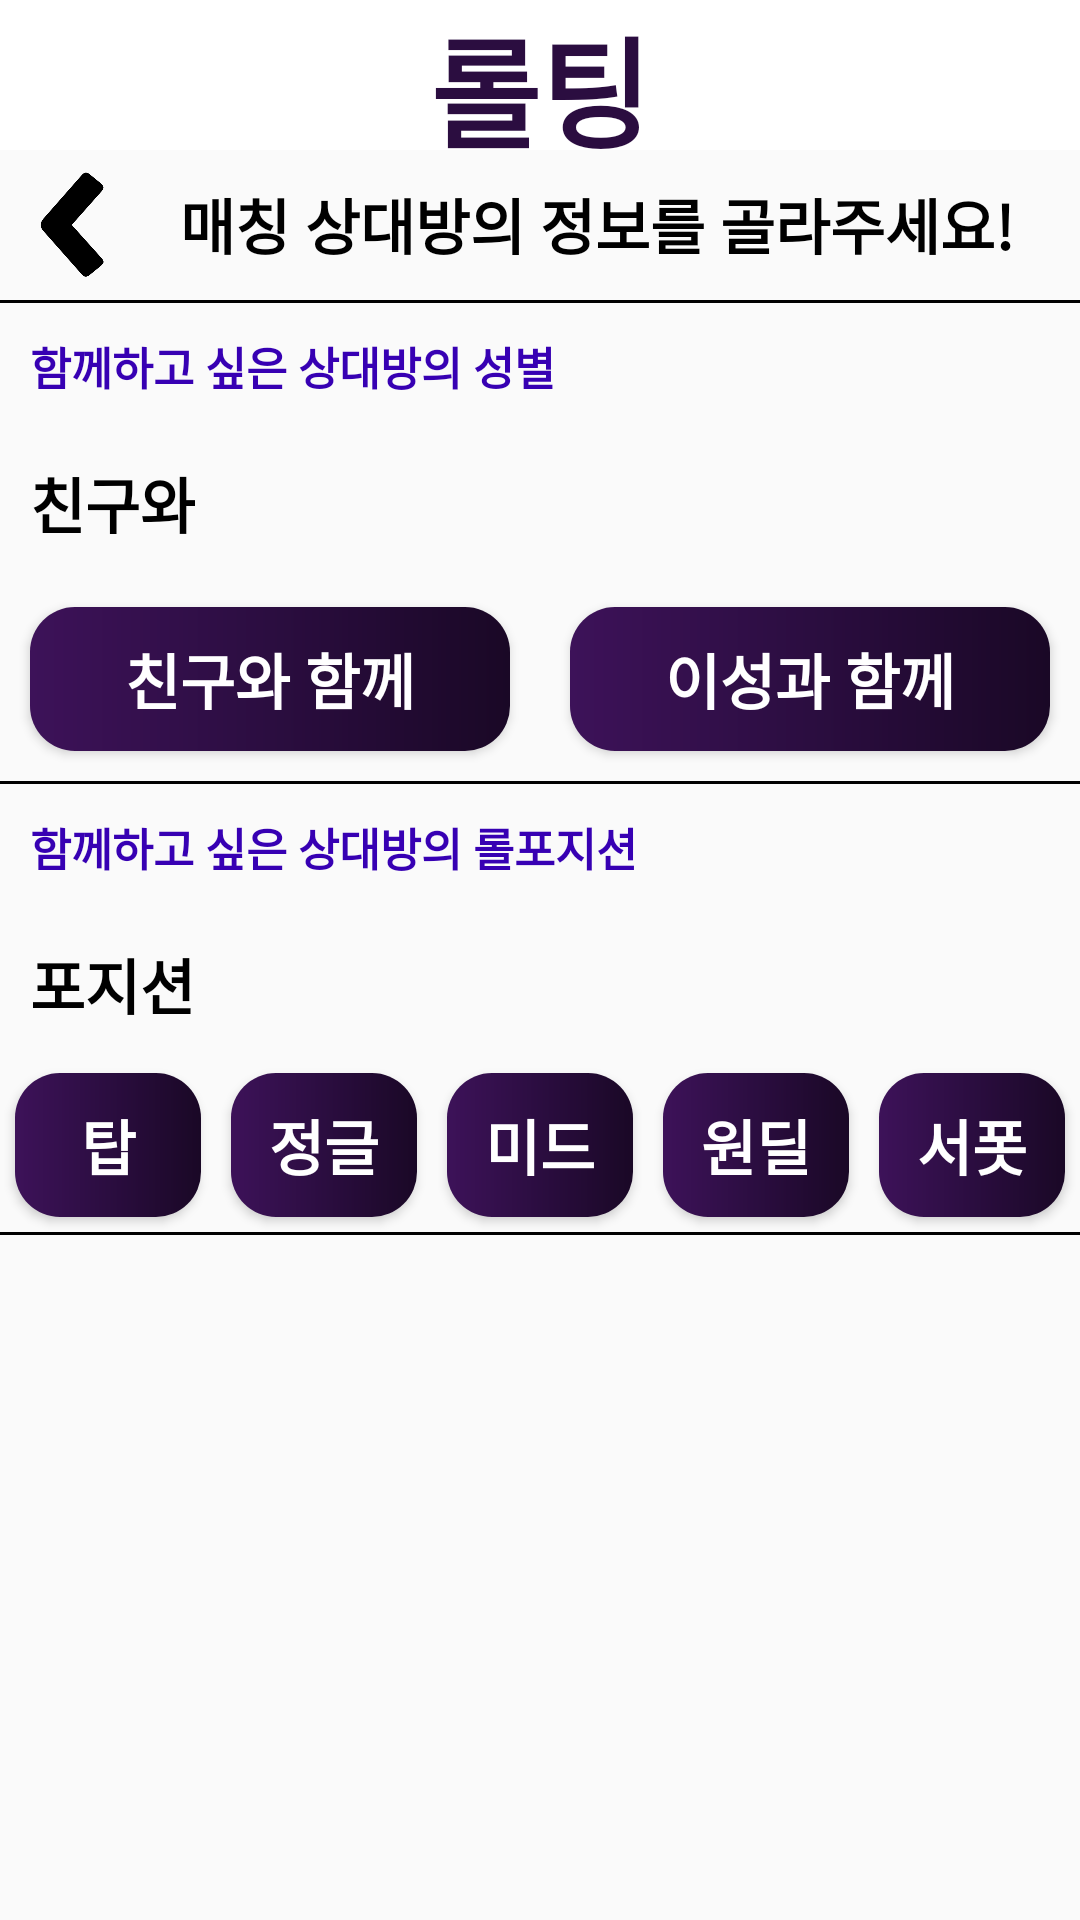

Where icons sit on this 1080 × 1920 app screen, as (x1, y1, x2, y2):
backbuttonimg: (41, 172, 104, 277)
